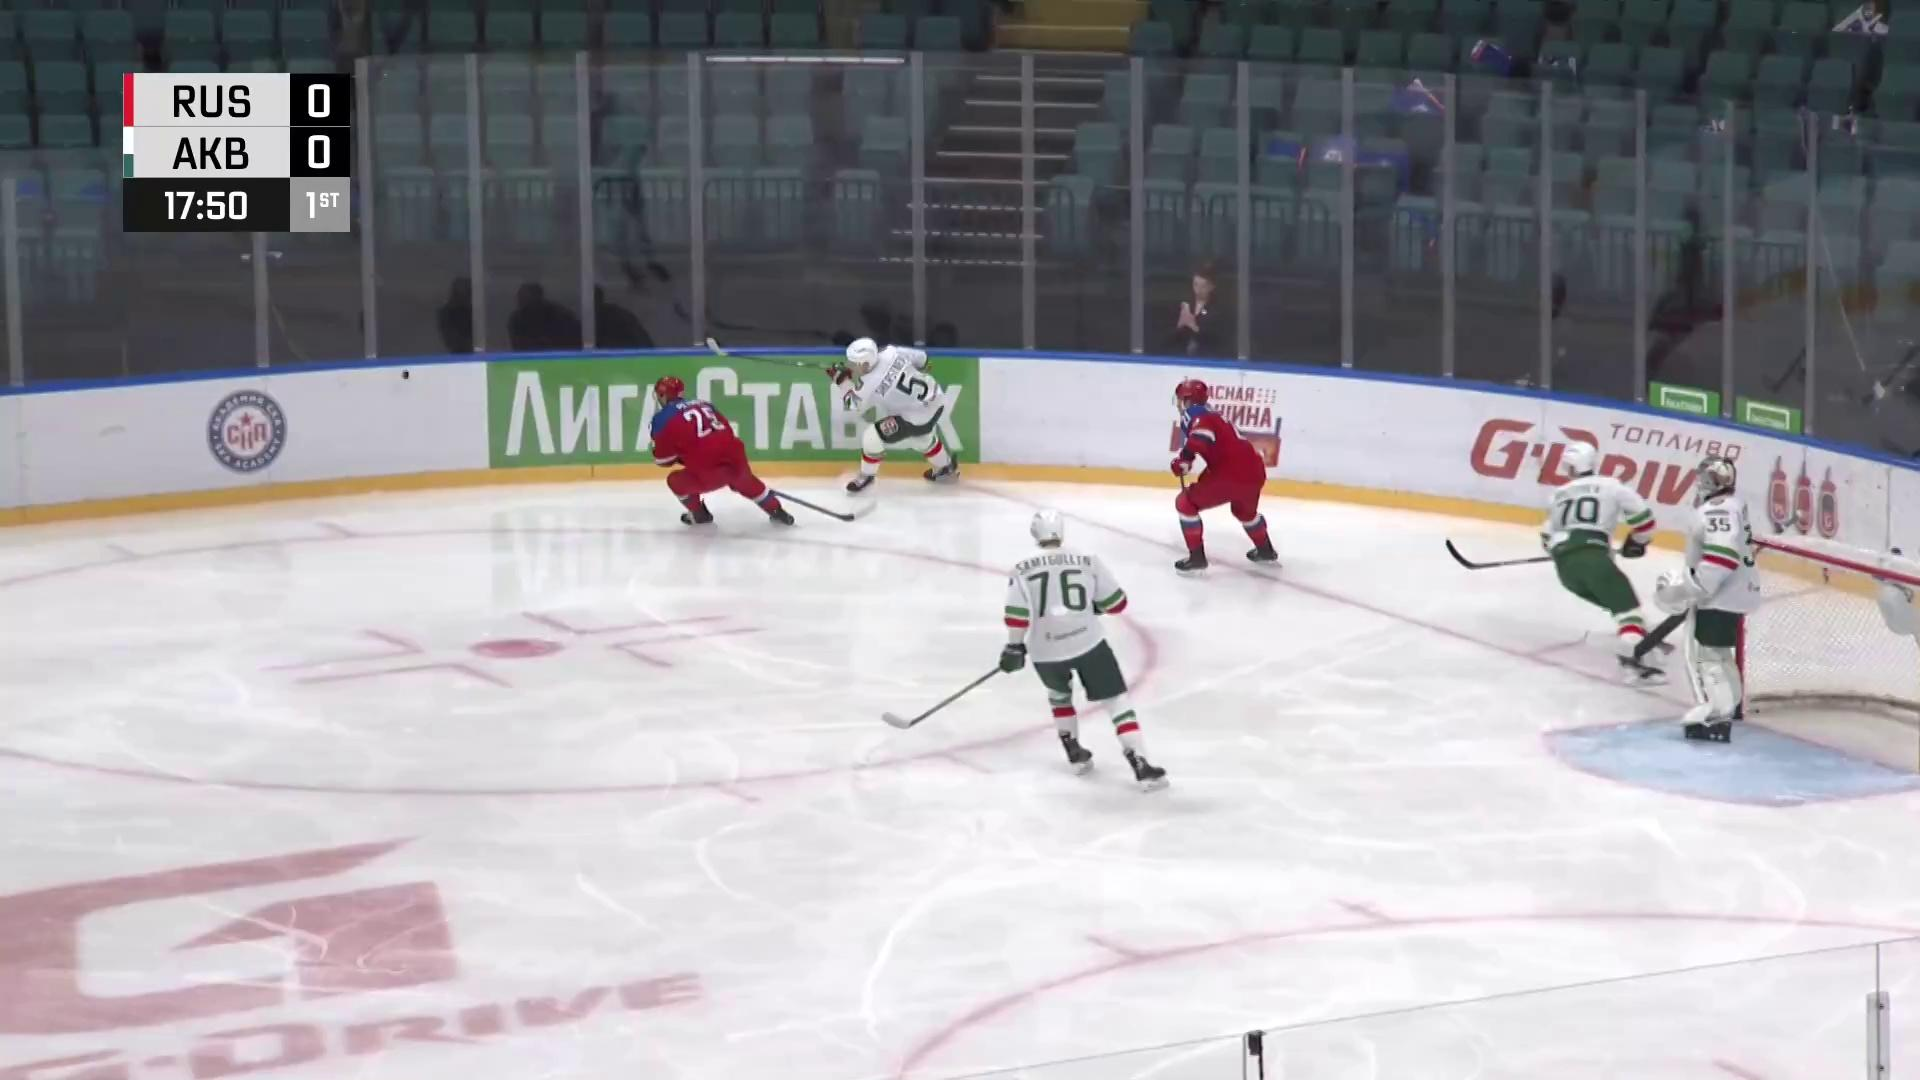ball: (401, 371, 410, 380)
